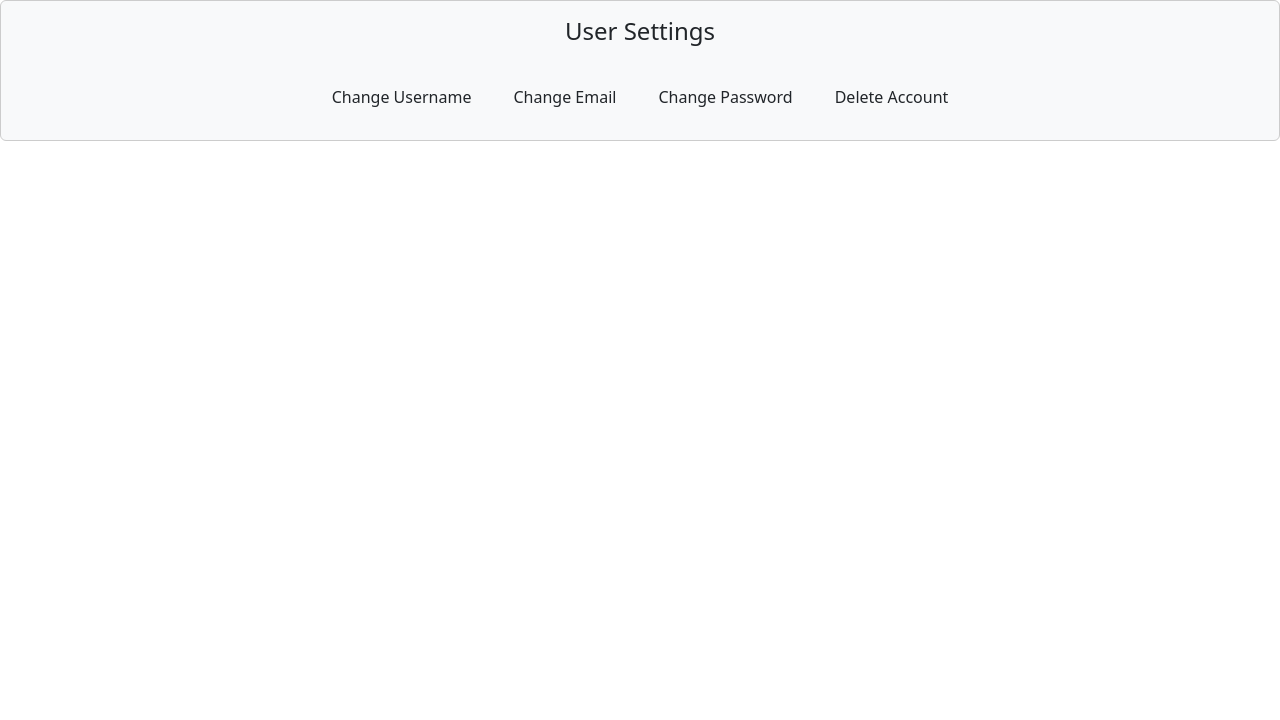
Test case: SettingsTable Component › opens and closes modal on button click
Click the button "Change Email" at [565, 97], box [500,78,629,116]
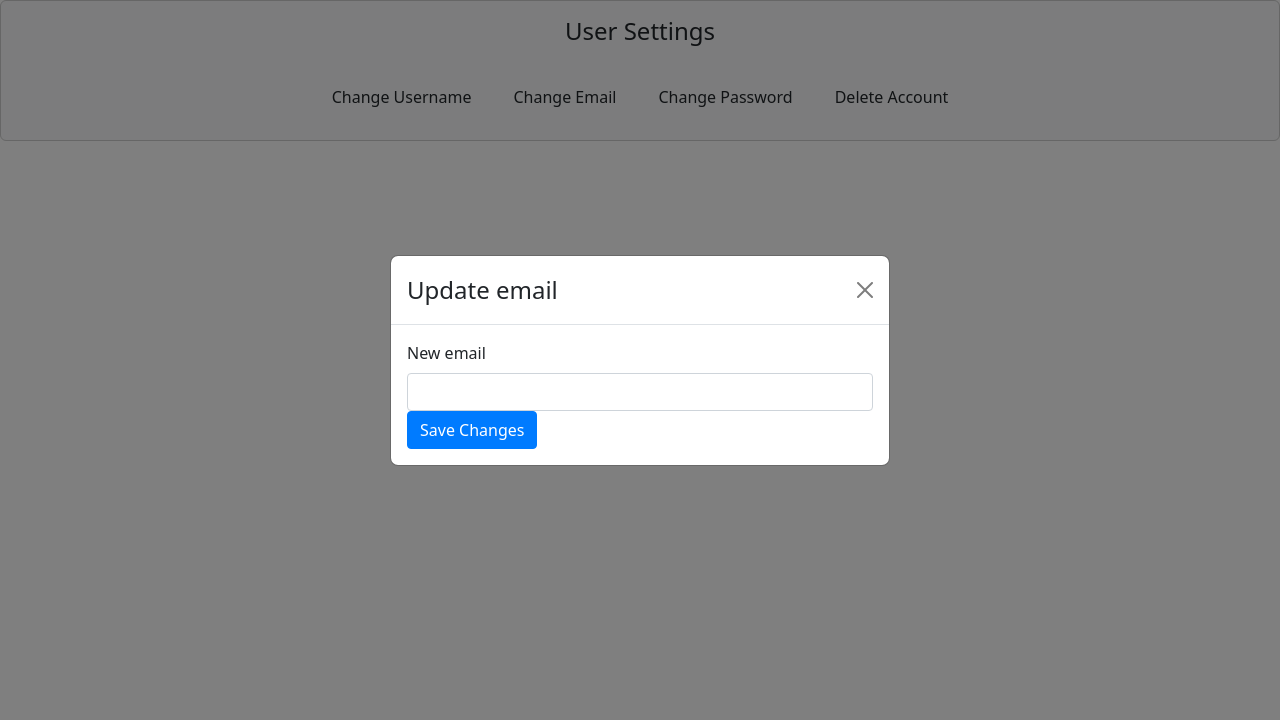
Result: the text "Update email" is shown at [407,272,558,308]
Click the button named "close" at [865, 290], box [849,274,881,306]
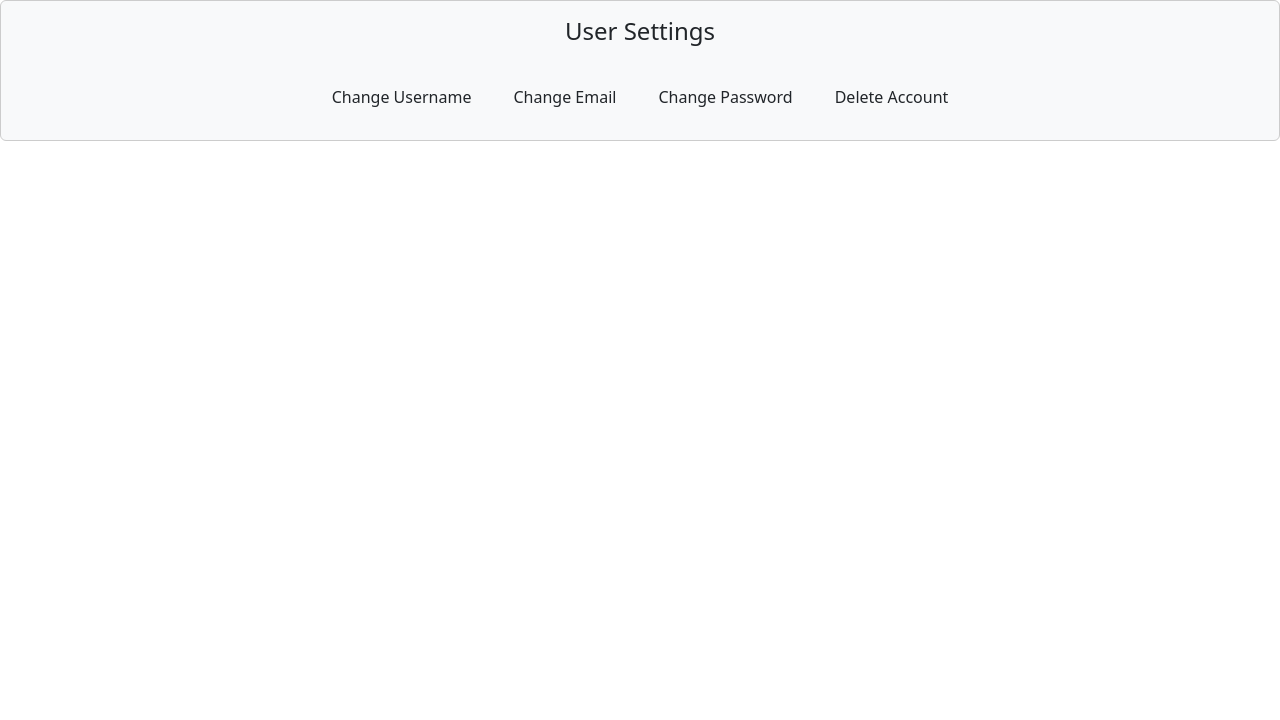
Result: the text "Update email" is gone
